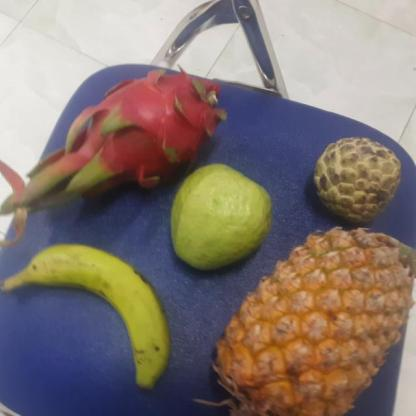annona: (308, 138, 402, 224)
banana: (4, 247, 172, 378)
guava: (166, 164, 273, 270)
pitaya: (78, 66, 218, 195)
